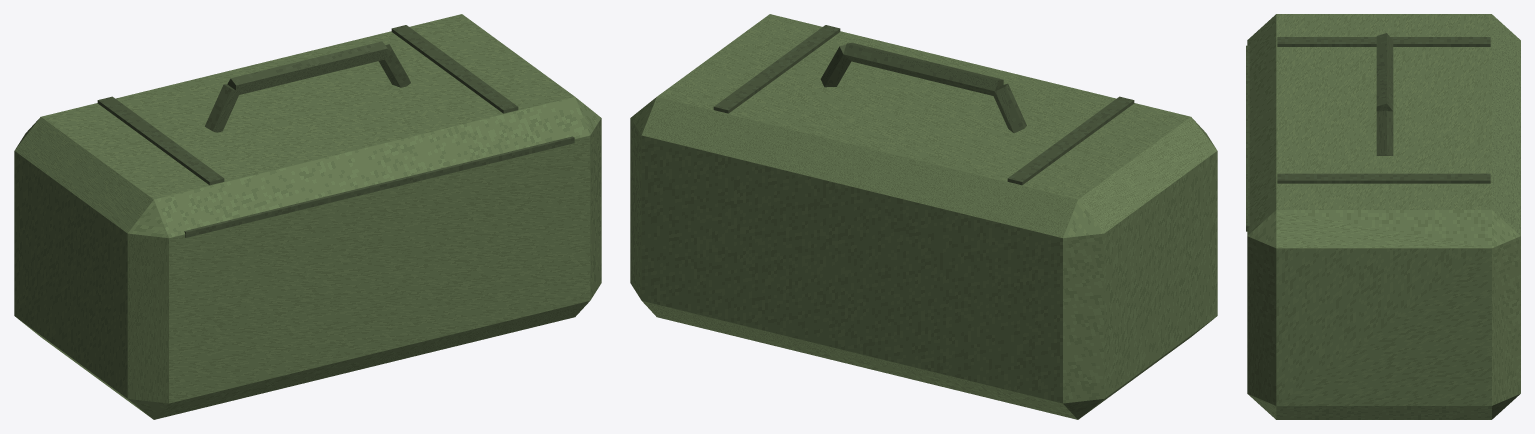
File: duffelbag.glb
3 views of the same model, side by side, from view 1: azimuth 30°, elevation 25°; view 2: azimuth 150°, elevation 25°; view 3: azimuth 270°, elevation 25° (orthographic). The views are drawn at different scales.
Parts seen in each view (by area): view 1: block_bag body, block_zipper or closure, block_carry handle 1, block_webbing -0.1395, block_webbing 0.1395, block_carry handle 0, block_carry handle 2; view 2: block_bag body, block_carry handle 1, block_webbing -0.1395, block_webbing 0.1395, block_carry handle 0, block_carry handle 2; view 3: block_bag body, block_webbing 0.1395, block_webbing -0.1395, block_carry handle 1, block_carry handle 2, block_zipper or closure.
Boxes of the visible parts, <box> form: block_bag body: <box>14,14,601,419</box>; block_zipper or closure: <box>184,136,574,237</box>; block_carry handle 1: <box>227,41,387,95</box>; block_webbing -0.1395: <box>97,96,224,185</box>; block_webbing 0.1395: <box>391,25,518,113</box>; block_carry handle 0: <box>205,84,238,132</box>; block_carry handle 2: <box>378,44,410,87</box>; block_bag body: <box>630,14,1217,419</box>; block_carry handle 1: <box>843,43,1003,95</box>; block_webbing -0.1395: <box>1007,96,1134,185</box>; block_webbing 0.1395: <box>713,25,840,113</box>; block_carry handle 0: <box>993,83,1026,133</box>; block_carry handle 2: <box>820,45,851,87</box>; block_bag body: <box>1247,14,1520,419</box>; block_webbing 0.1395: <box>1277,173,1490,183</box>; block_webbing -0.1395: <box>1277,37,1490,46</box>; block_carry handle 1: <box>1376,33,1393,111</box>; block_carry handle 2: <box>1376,111,1393,155</box>; block_zipper or closure: <box>1246,45,1249,231</box>.
Size of the model in its own units: 0.45 by 0.2416 by 0.237.
1 material, 1 textured.
